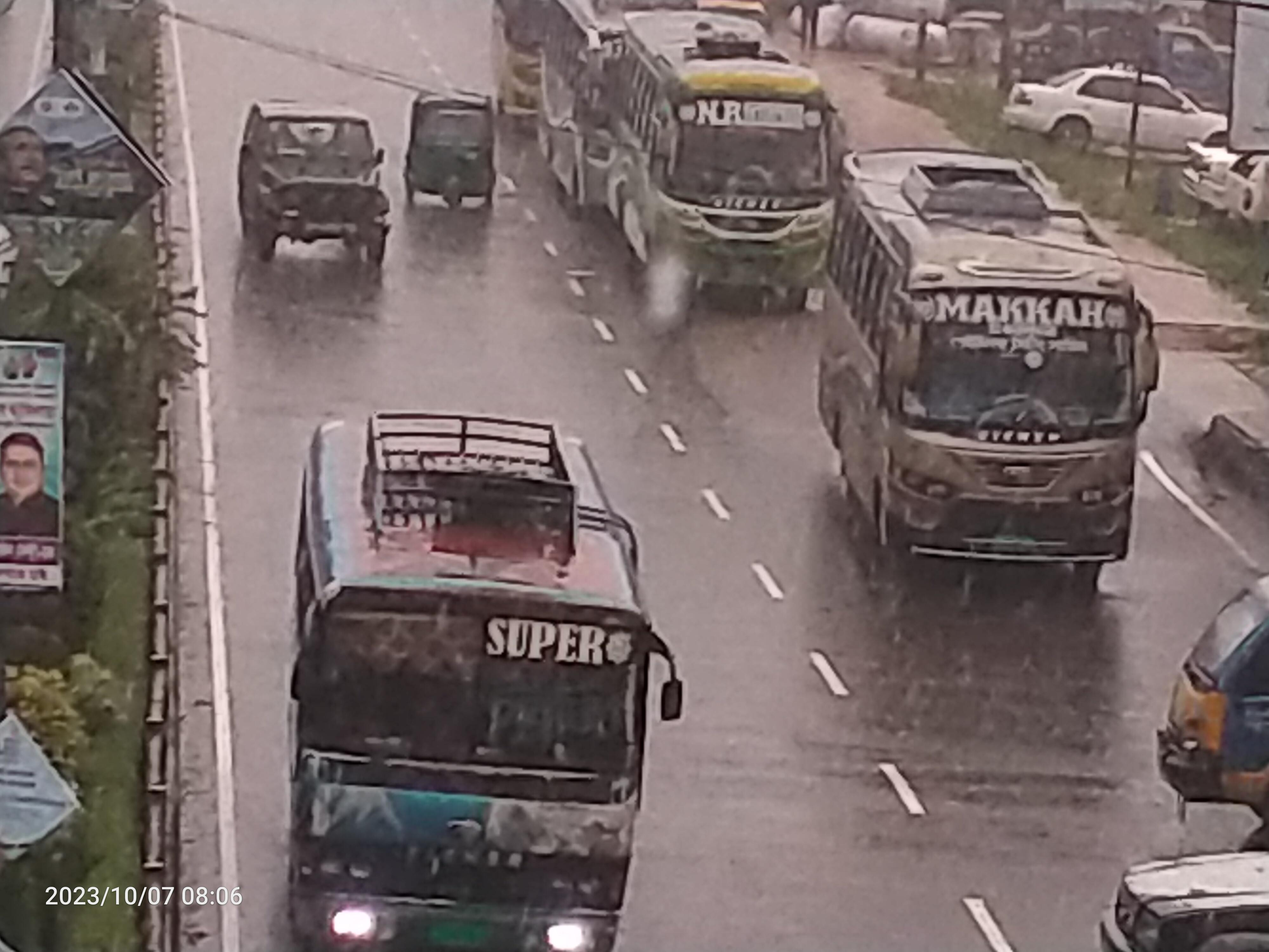Bus: (240, 379, 713, 952), (787, 131, 1178, 616), (592, 4, 840, 320), (467, 0, 579, 133)
Car: (210, 78, 417, 294), (996, 51, 1255, 175)
Truck: (1153, 559, 1269, 826)
